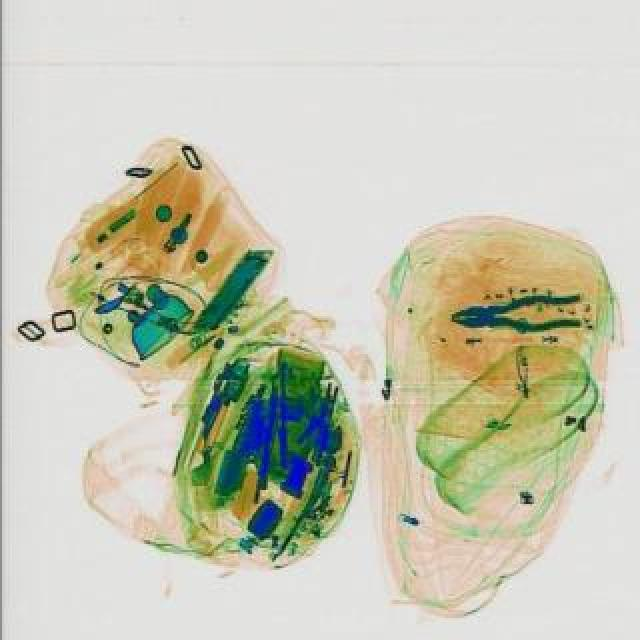wrench: (450, 290, 582, 336)
